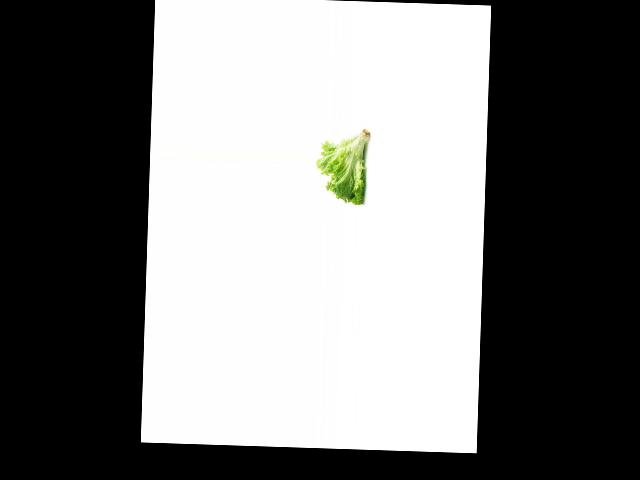lettuce: (314, 125, 371, 205)
